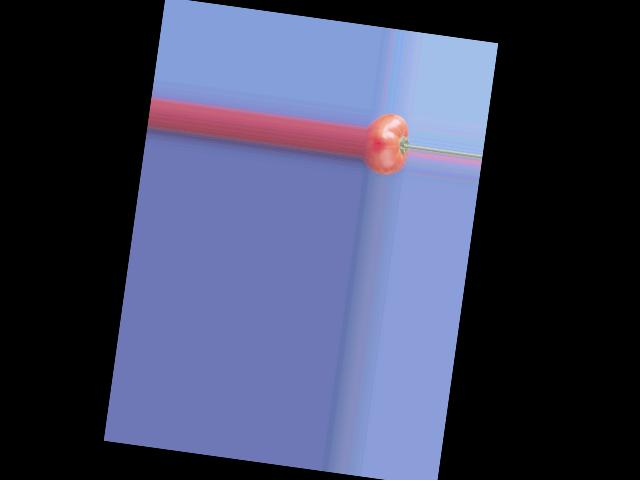tomato: (360, 111, 413, 178)
